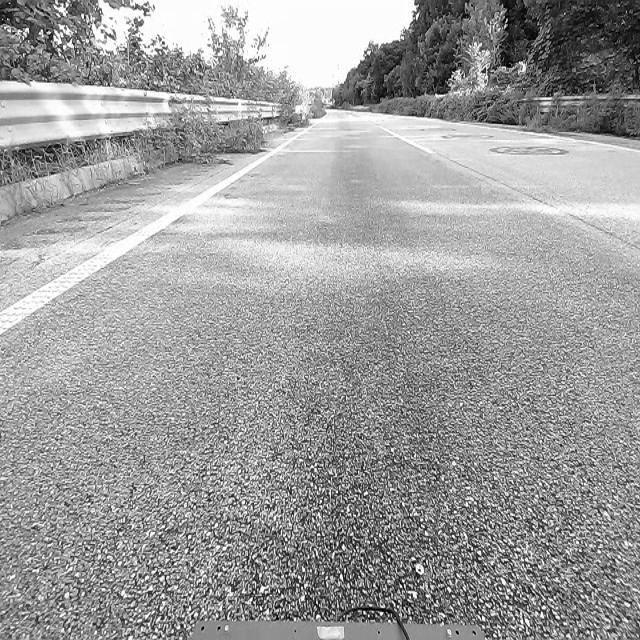Lane: (0, 125, 303, 338), (0, 134, 298, 335), (373, 113, 640, 268), (375, 122, 639, 251)
